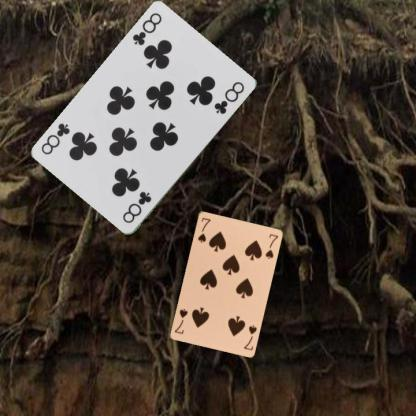7s: (195, 215, 212, 244), (241, 322, 258, 351)
8c: (129, 10, 163, 47), (120, 189, 153, 225)
